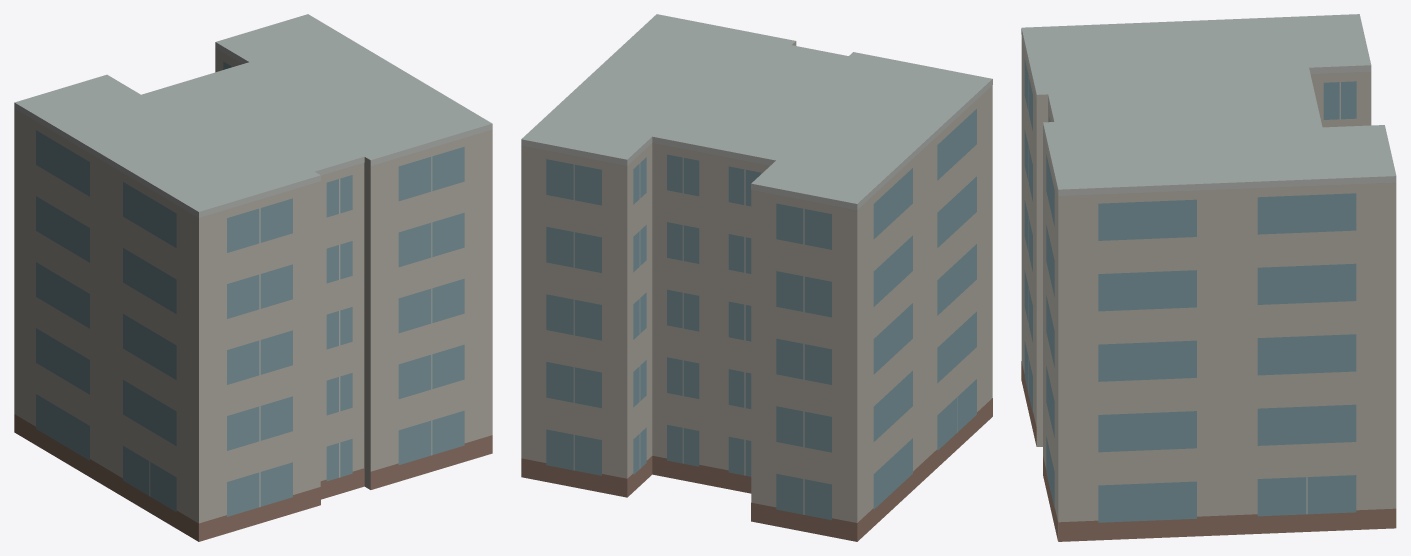
The model's file is survey-upis-32608255.glb.
3 views of the same model, side by side, from view 1: azimuth 30°, elevation 25°; view 2: azimuth 150°, elevation 25°; view 3: azimuth 270°, elevation 25° (orthographic). The views are drawn at different scales.
Parts seen in each view (by area): view 1: survey-upis-32608255.tmp; view 2: survey-upis-32608255.tmp; view 3: survey-upis-32608255.tmp.
Part boxes in pixels (x1,y1,x2,y2): survey-upis-32608255.tmp: (14,14,492,541); survey-upis-32608255.tmp: (521,14,992,541); survey-upis-32608255.tmp: (1021,14,1396,541).
Size of the model in its own units: 14.66 by 13.7 by 13.23.
